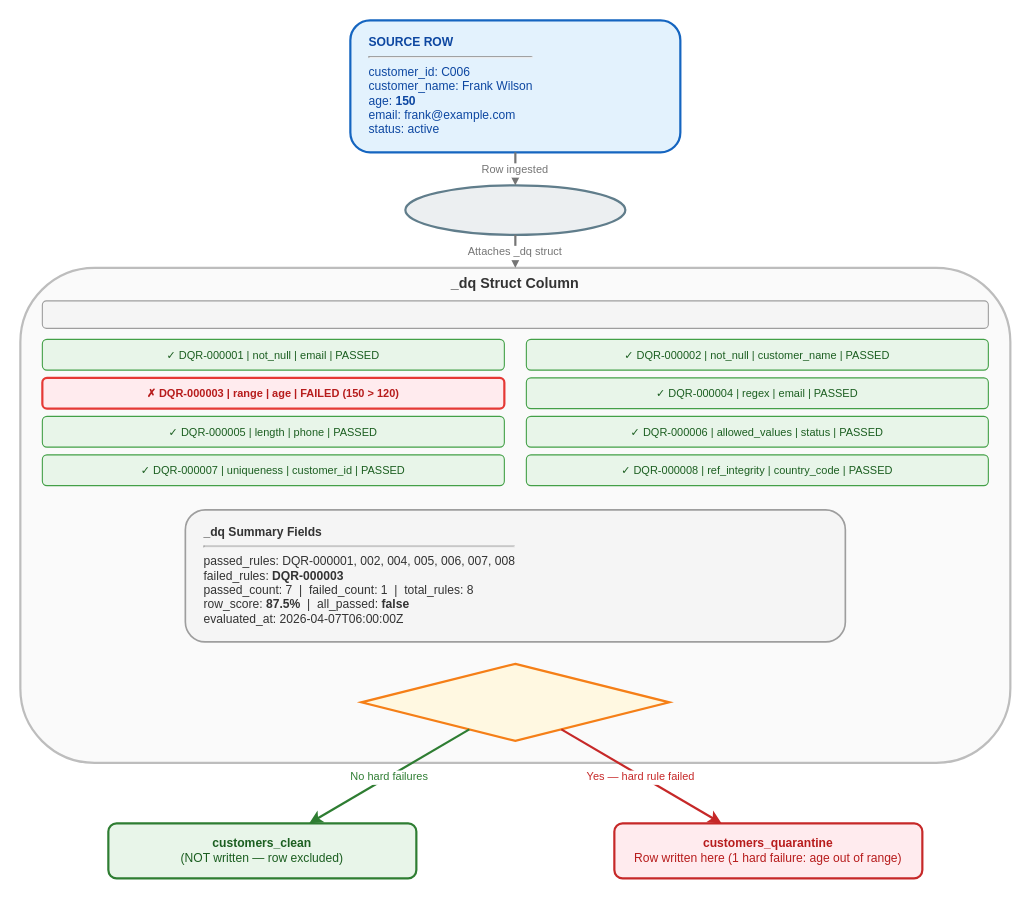
The diagram is 1030 pixels wide and 898 high, and some of its shapes have lost their labels. Each missing label, with the centre of its shape:
_dq.results [ ] — 8 rule evaluations: the point at 514,314
DQ Evaluation Engine: the point at 515,209
DQR-000003 HARD enforcement?: the point at 515,701
